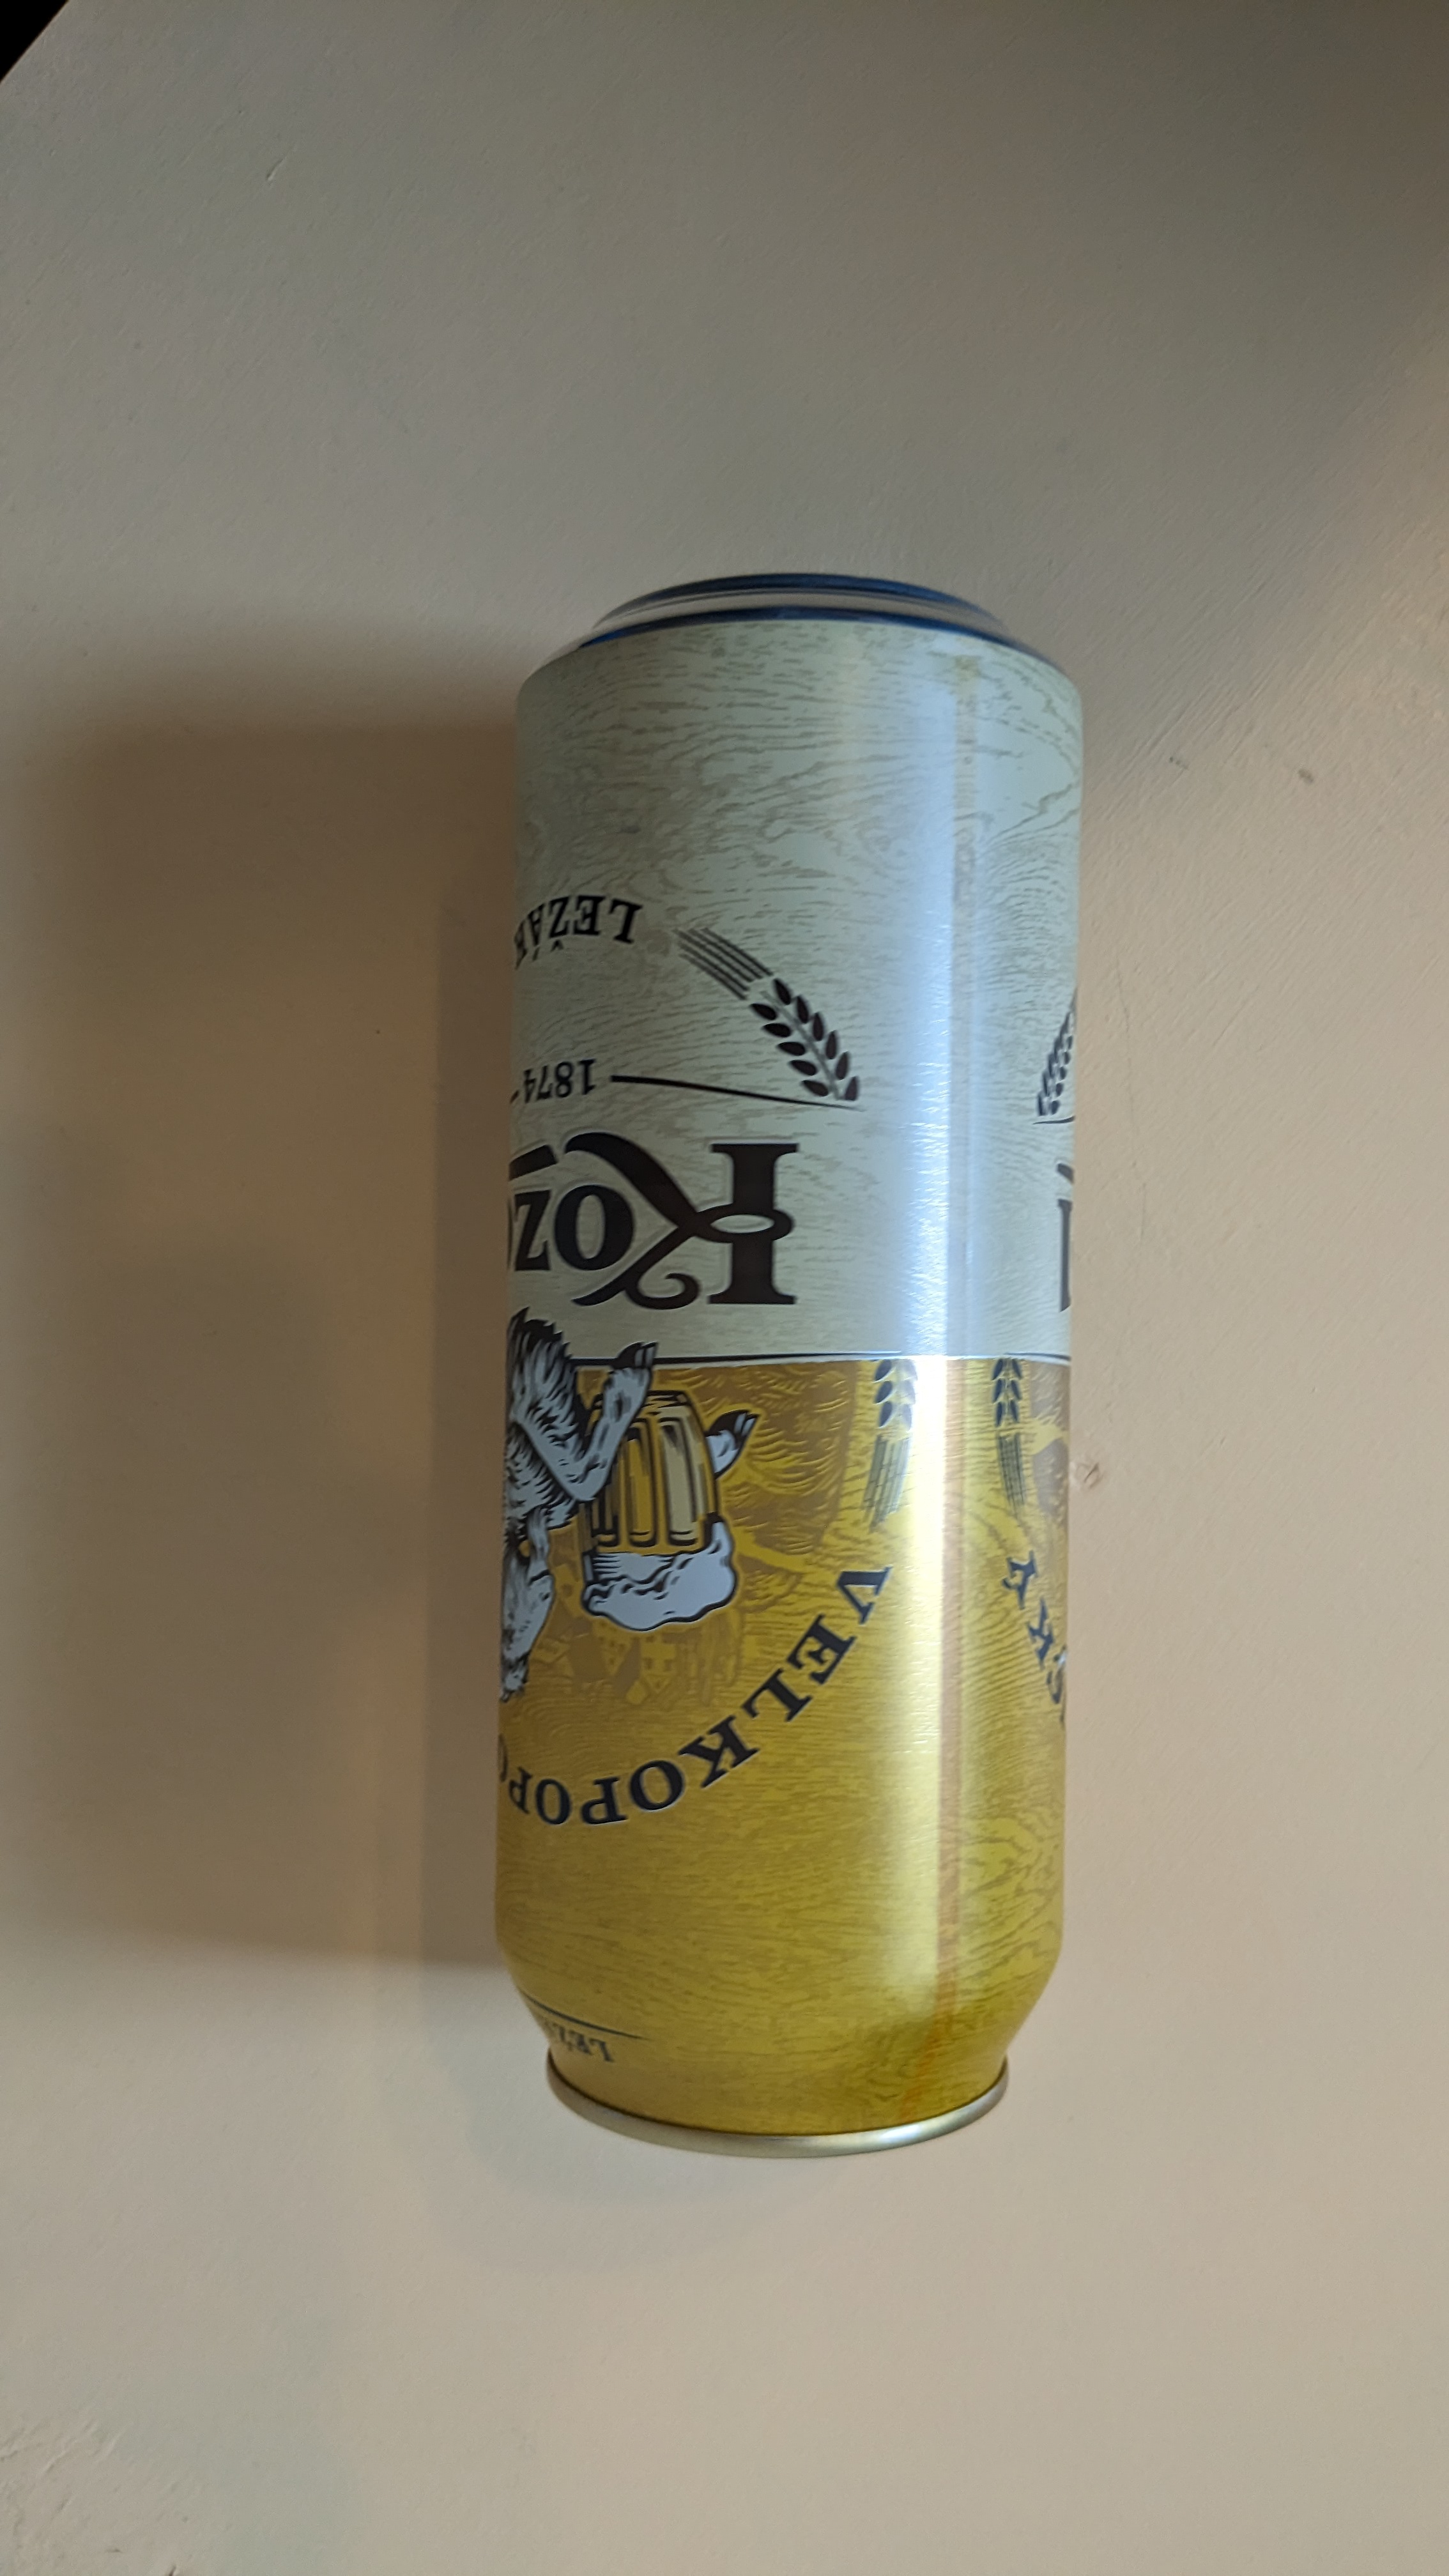kozel: (455, 524, 1104, 2196)
